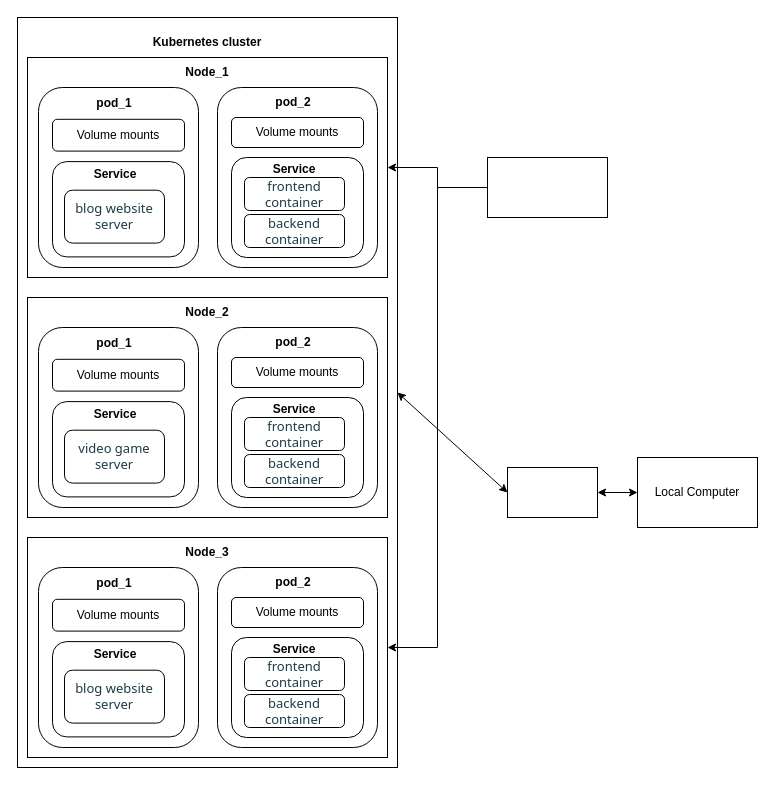
The diagram is 775 pixels wide and 785 high, and some of its shapes have lost their labels. Each missing label, with the centre of its shape:
kubectl: point 552,492
User: point 547,187
